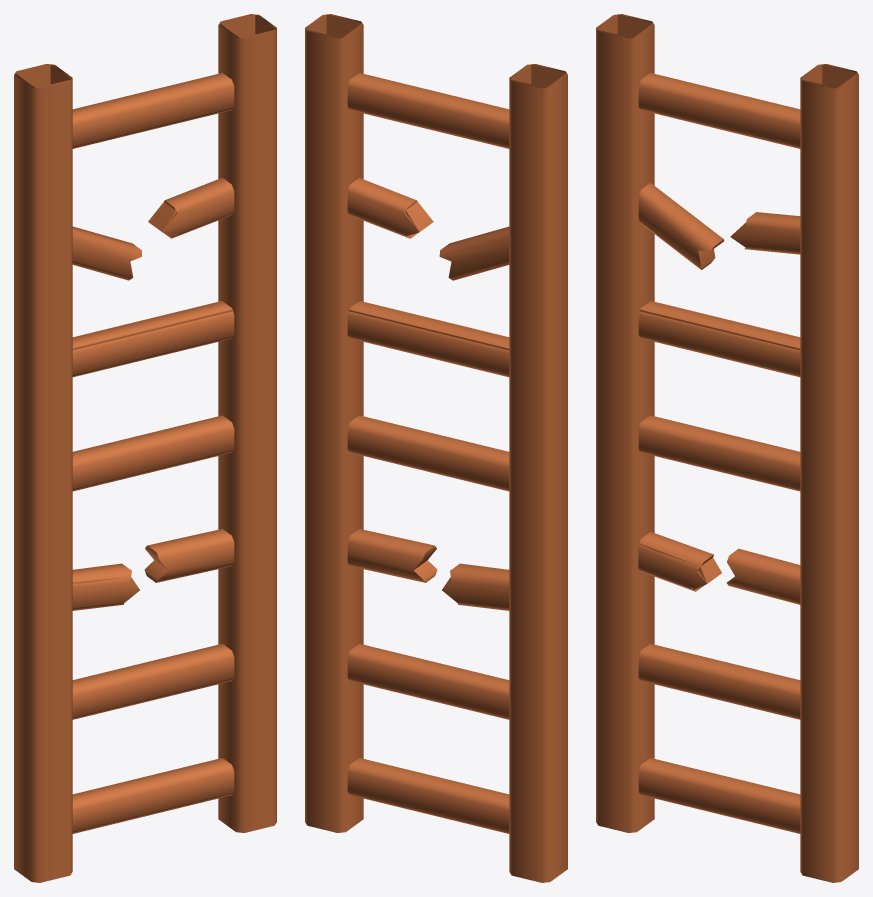
File: ladder tile broken.fbx
The picture shows the model from 3 angles, left to right: view 1: azimuth 30°, elevation 25°; view 2: azimuth 150°, elevation 25°; view 3: azimuth 330°, elevation 25°; orthographic projection.
Parts seen in each view (by area): view 1: ladder tile broken, ladder tile broken low; view 2: ladder tile broken, ladder tile broken low; view 3: ladder tile broken, ladder tile broken low.
Part boxes in pixels (x1,y1,x2,y2): ladder tile broken: [14, 14, 276, 882]; ladder tile broken low: [15, 14, 275, 832]; ladder tile broken: [305, 14, 567, 882]; ladder tile broken low: [306, 14, 566, 832]; ladder tile broken: [596, 14, 858, 882]; ladder tile broken low: [597, 14, 857, 832].
Bounding box in the file's own units: 64.63 × 200 × 10.78.
1 material, 1 textured.
